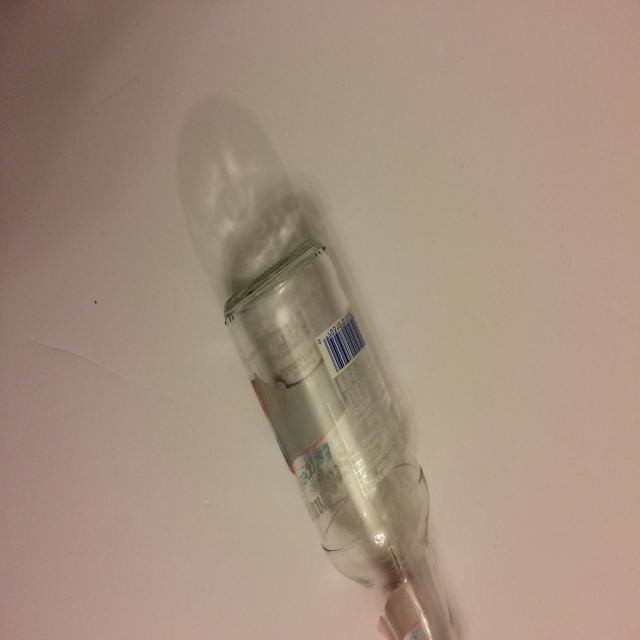glass: (176, 91, 470, 640)
